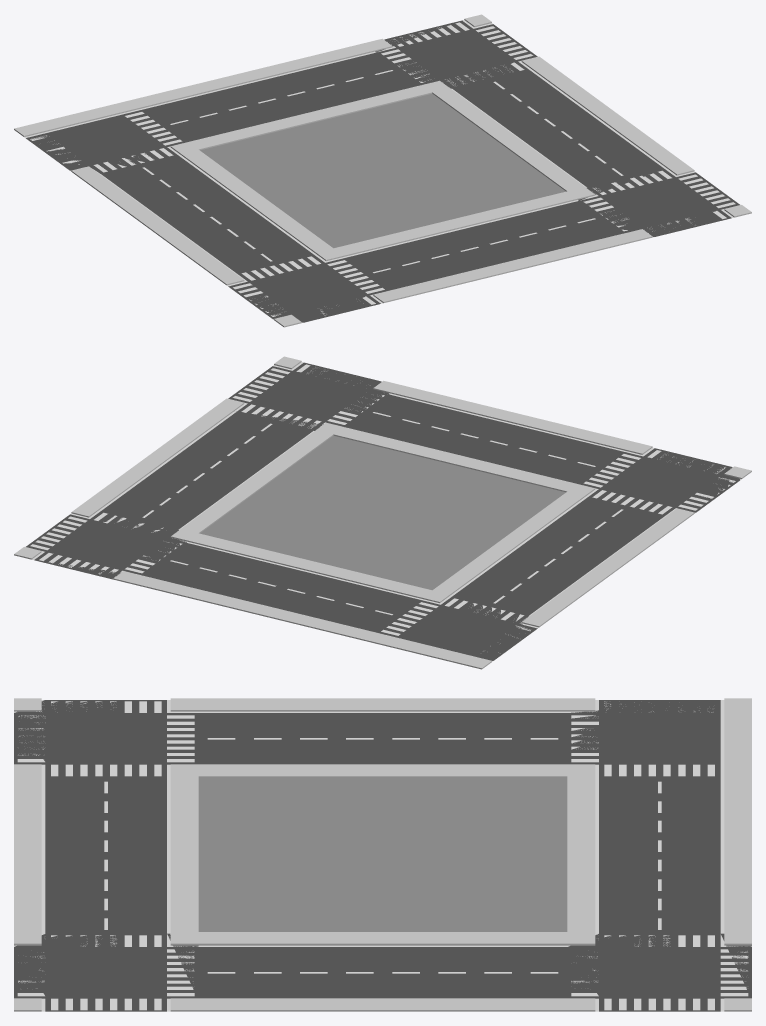
File: Road.fbx
The picture shows the model from 3 angles, top to bottom: view 1: azimuth 30°, elevation 25°; view 2: azimuth 150°, elevation 25°; view 3: azimuth 270°, elevation 25°; orthographic projection. The views are drawn at different scales.
Visible parts, largest first — view 1: Road T_Intersection_01.001; view 2: Road T_Intersection_01.001; view 3: Road T_Intersection_01.001.
Boxes of the visible parts, bbox=[...] form: Road T_Intersection_01.001: bbox=[14, 14, 751, 327]; Road T_Intersection_01.001: bbox=[14, 356, 751, 669]; Road T_Intersection_01.001: bbox=[14, 698, 751, 1011].
Bounding box in the file's own units: 8000 × 20 × 8000.
1 material, 1 textured.
